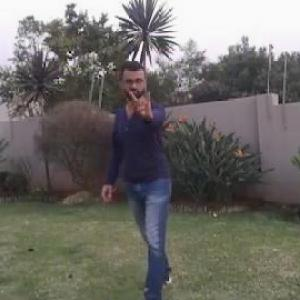takeoff-hand: (123, 84, 154, 122)
